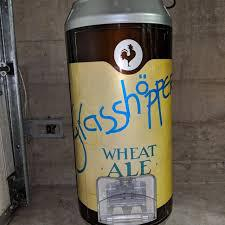beer: (65, 1, 175, 224)
